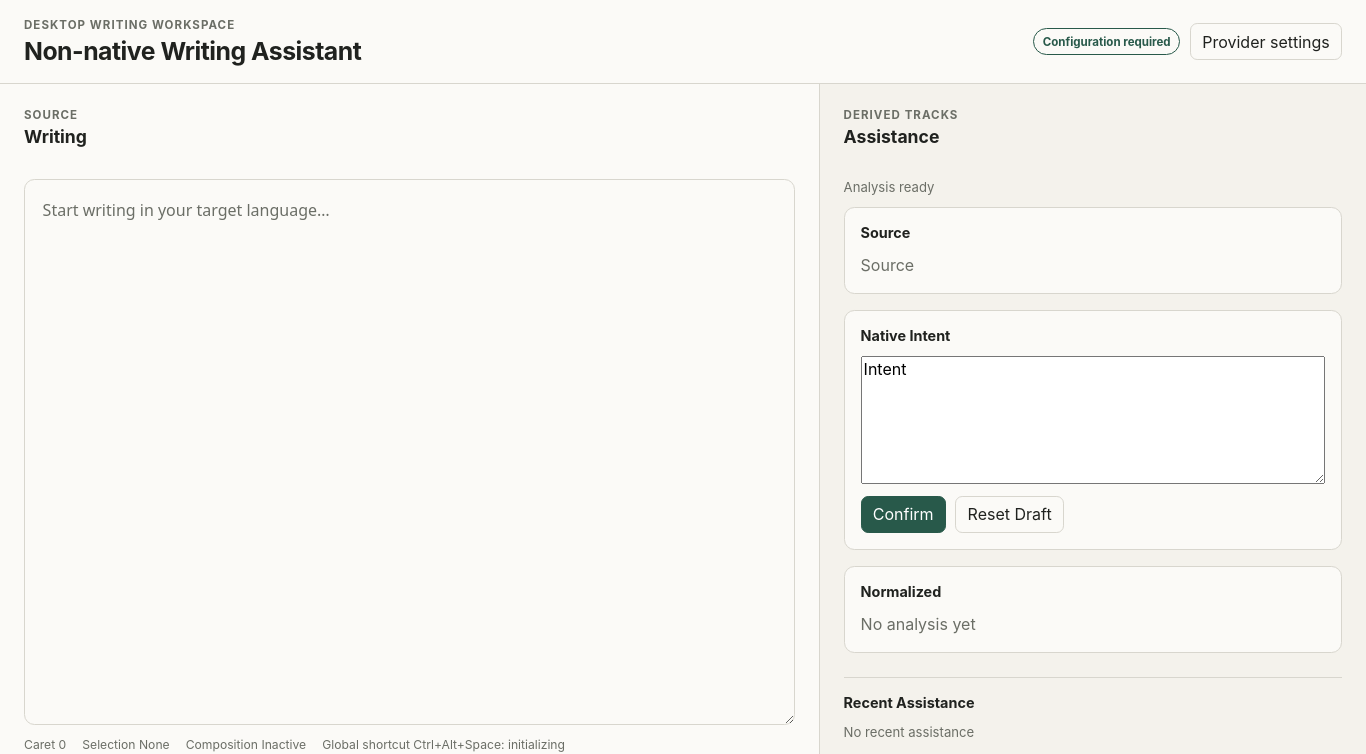
Test: desktop engine UI › shows a safe obsolete-target message when confirmation is rejected
The width and height of the screenshot is (1366, 754).
Click the button "Confirm".
click(903, 514)  # box top-left (861, 496), bottom-right (946, 533)
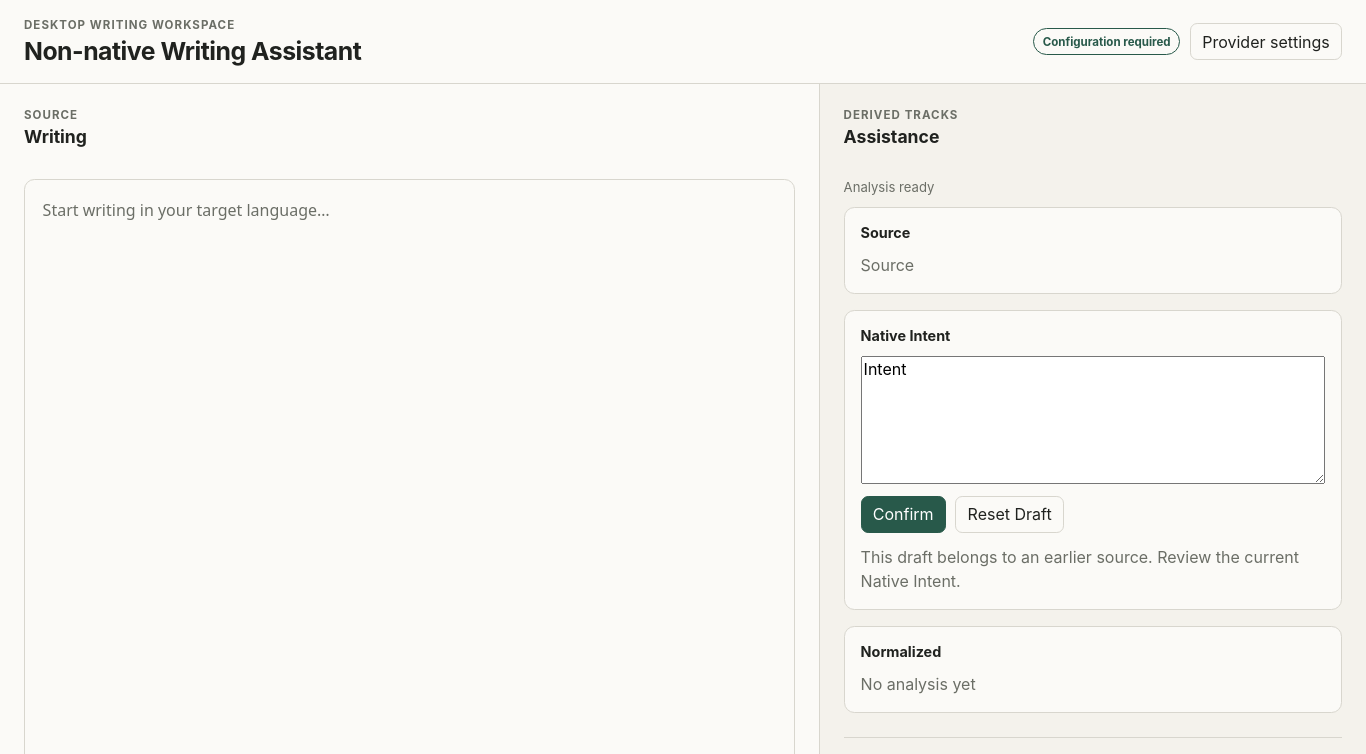
Result: the message "This draft belongs to an earlier source. Review the current Native Intent." is shown at top-left (861, 545), bottom-right (1325, 593)
